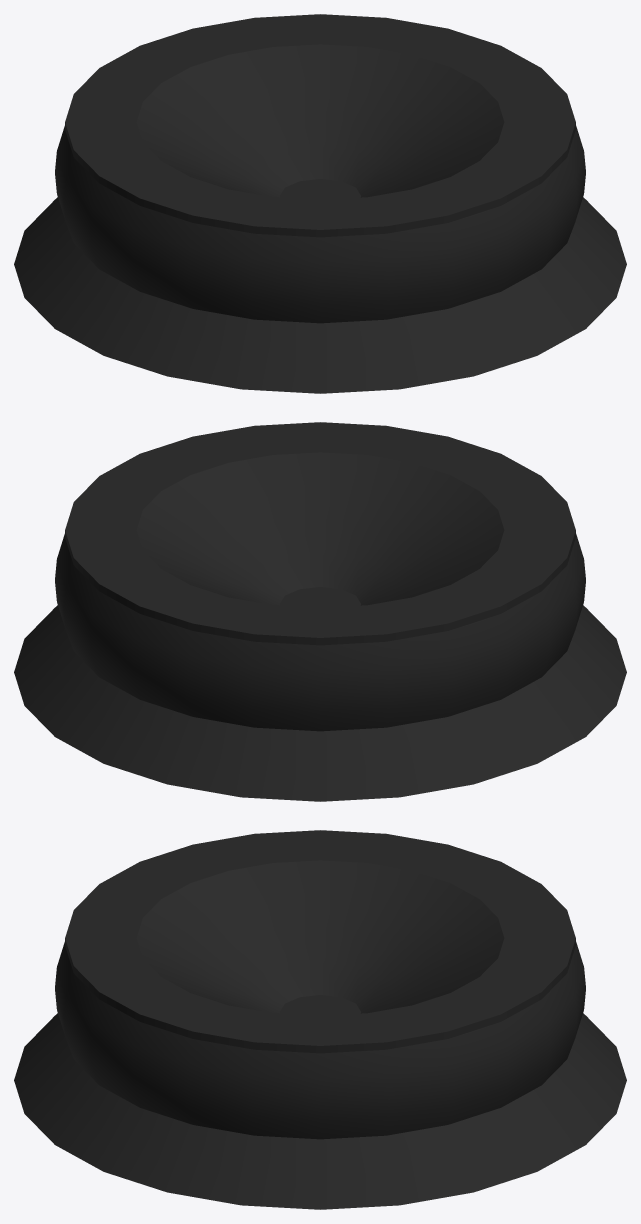
Rendered from Tantares_DockingMechanism_2.obj.
3 views of the same model, one above another, from view 1: azimuth 30°, elevation 25°; view 2: azimuth 150°, elevation 25°; view 3: azimuth 270°, elevation 25° (orthographic).
Visible parts, largest first — view 1: Tantares_DockingMechanism_2; view 2: Tantares_DockingMechanism_2; view 3: Tantares_DockingMechanism_2.
Boxes of the visible parts, x1,y1,x2,y2 form: Tantares_DockingMechanism_2: (14,14,626,393); Tantares_DockingMechanism_2: (14,422,626,801); Tantares_DockingMechanism_2: (14,830,626,1209).
Size of the model in its own units: 0.9375 by 0.24 by 0.9375.
